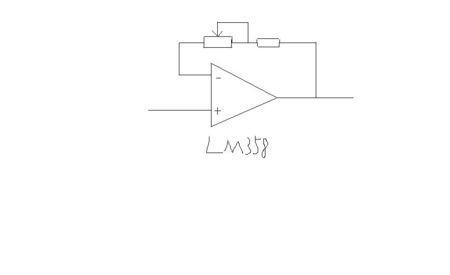amplifier: (207, 61, 282, 131)
res1: (200, 34, 236, 50), (253, 36, 282, 50)
